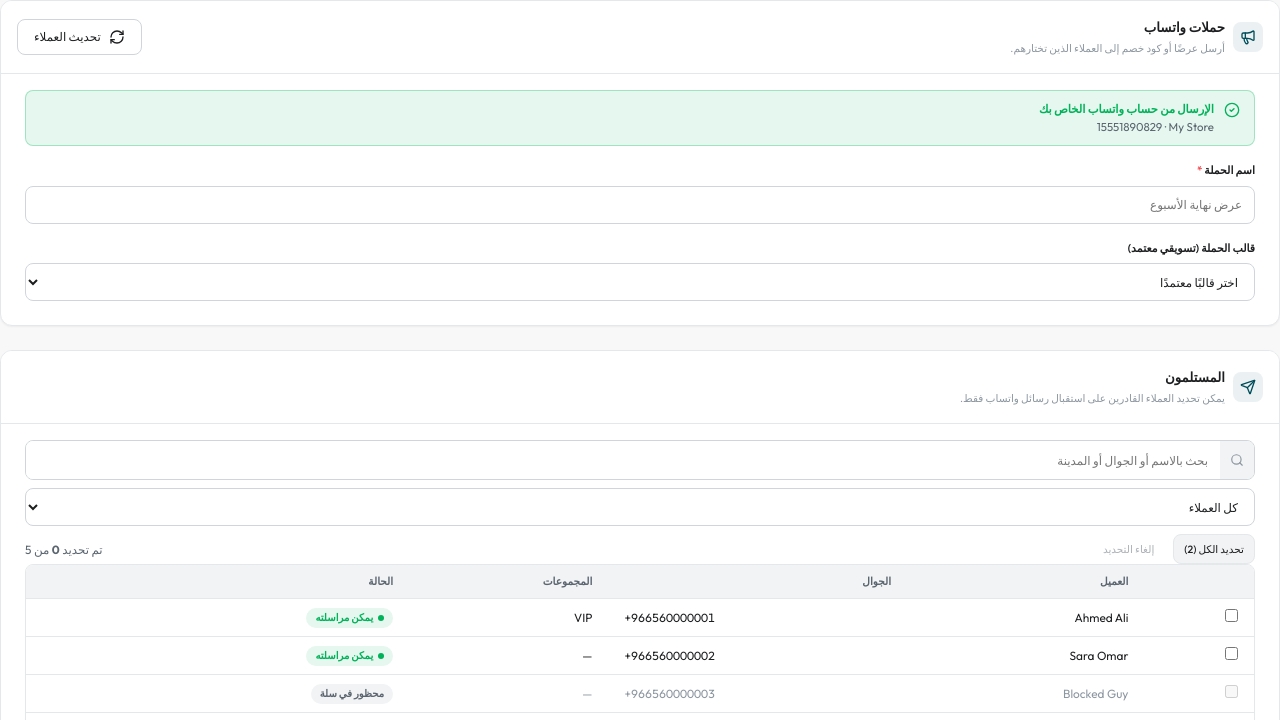
Test: CampaignsTab › only lets the merchant pick customers who can receive WhatsApp
This screenshot has width=1280, height=720.
Check: the text "Ahmed Ali" is shown, box [907,598,1144,637]
Check: the checkbox named "تحديد Blocked Guy" is disabled, box [1225,685,1238,698]
Click the button "تحديد الكل (2)": (1214, 549) [1173,534,1255,564]
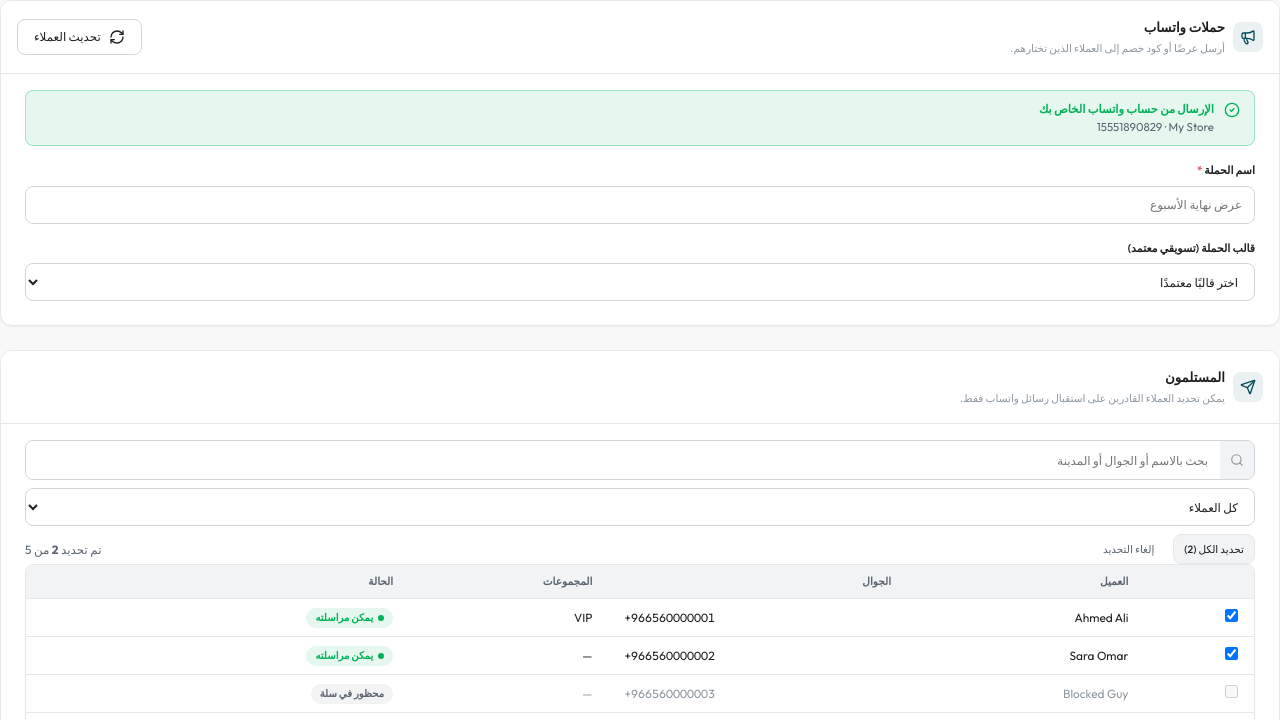
Check: the text "تم تحديد 2 من 5" is shown, box [25,540,102,559]
Untick one.
Click the checkbox named "تحديد Sara Omar": (1232, 654) [1225,647,1238,660]
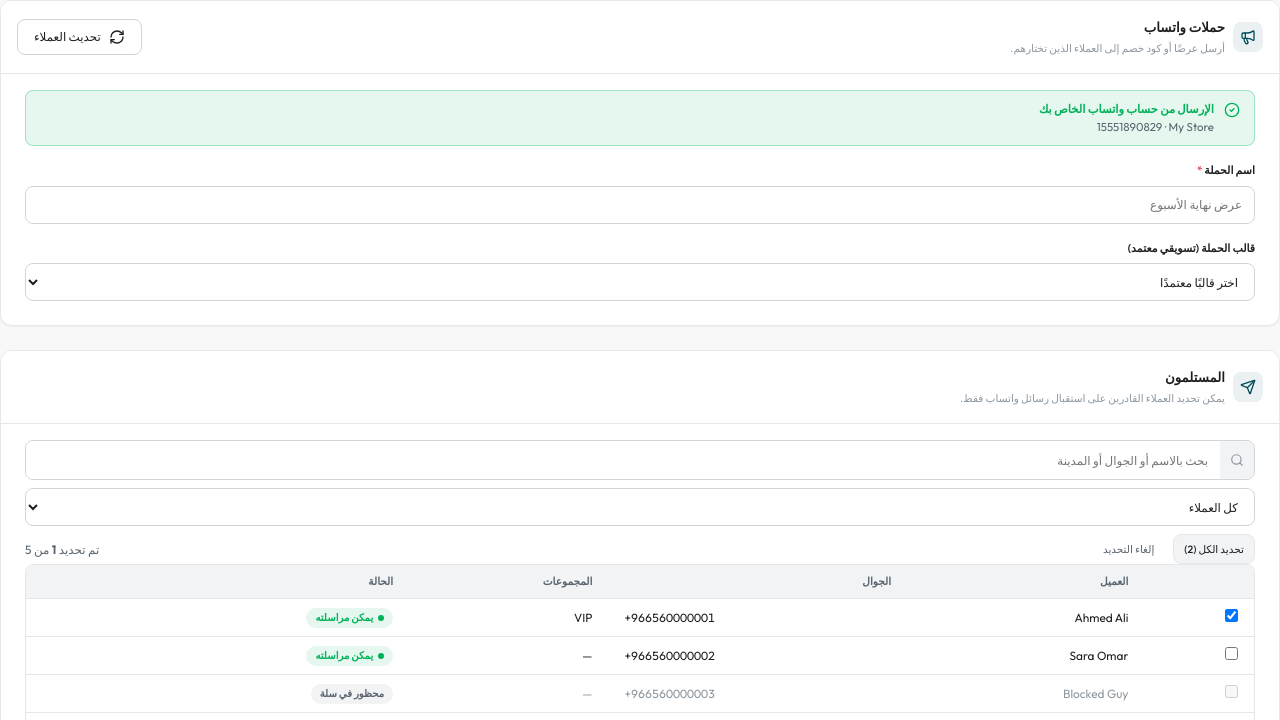
Check: the text "تم تحديد 1 من 5" is shown, box [25,540,99,559]
